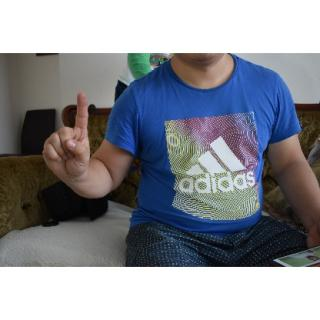BAA: (40, 90, 93, 183)
